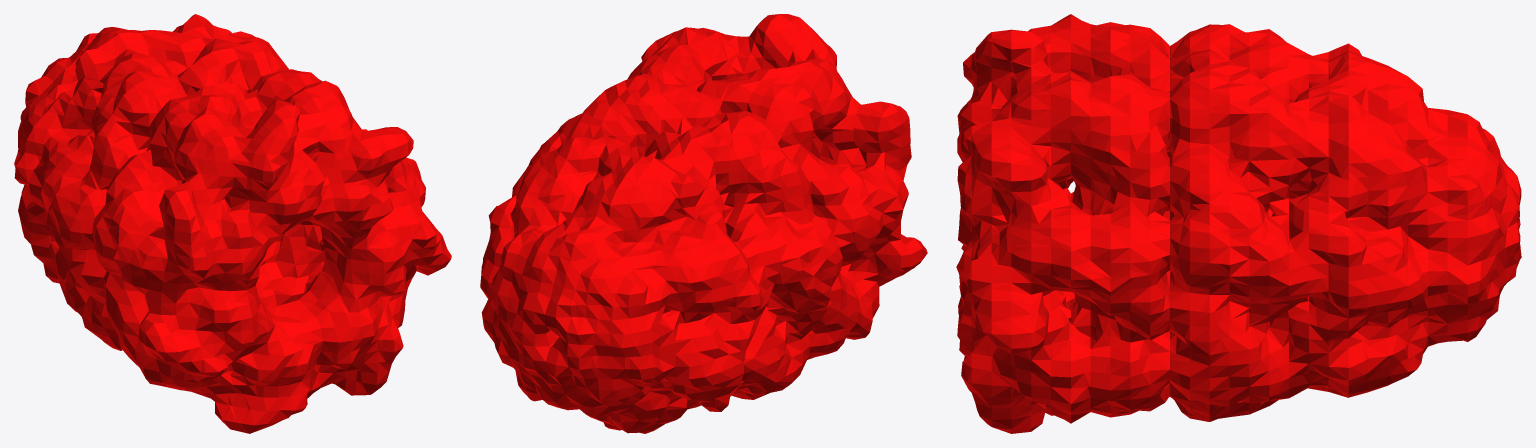
The model's file is groS_coarse.dae.
The picture shows the model from 3 angles, left to right: view 1: azimuth 30°, elevation 25°; view 2: azimuth 150°, elevation 25°; view 3: azimuth 270°, elevation 25°; orthographic projection. The views are drawn at different scales.
Parts seen in each view (by area): view 1: groS; view 2: groS; view 3: groS.
Boxes of the visible parts, x1=… form: groS: x1=14, y1=14, x2=451, y2=433; groS: x1=480, y1=14, x2=927, y2=433; groS: x1=956, y1=14, x2=1521, y2=433.
Size of the model in its own units: 147 by 151 by 202.
